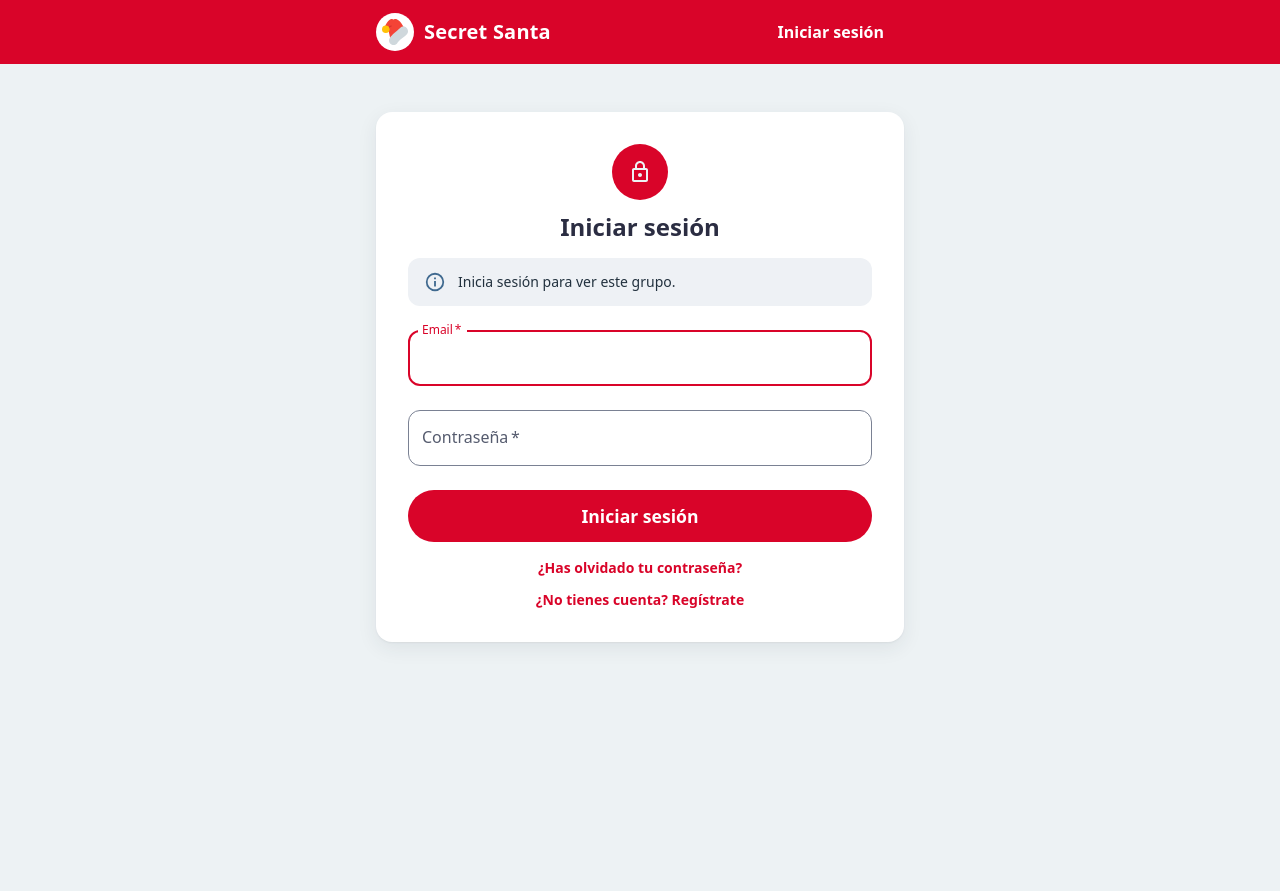
Test case: opens a group from an invite link after logging in
This screenshot has width=1280, height=891.
Expected: the text "Inicia sesión para ver este grupo." is shown, [458,272,676,291]
Type "ana@example.com" into the field labelled "Email *" at x=640, y=358, box [408,330,872,386]
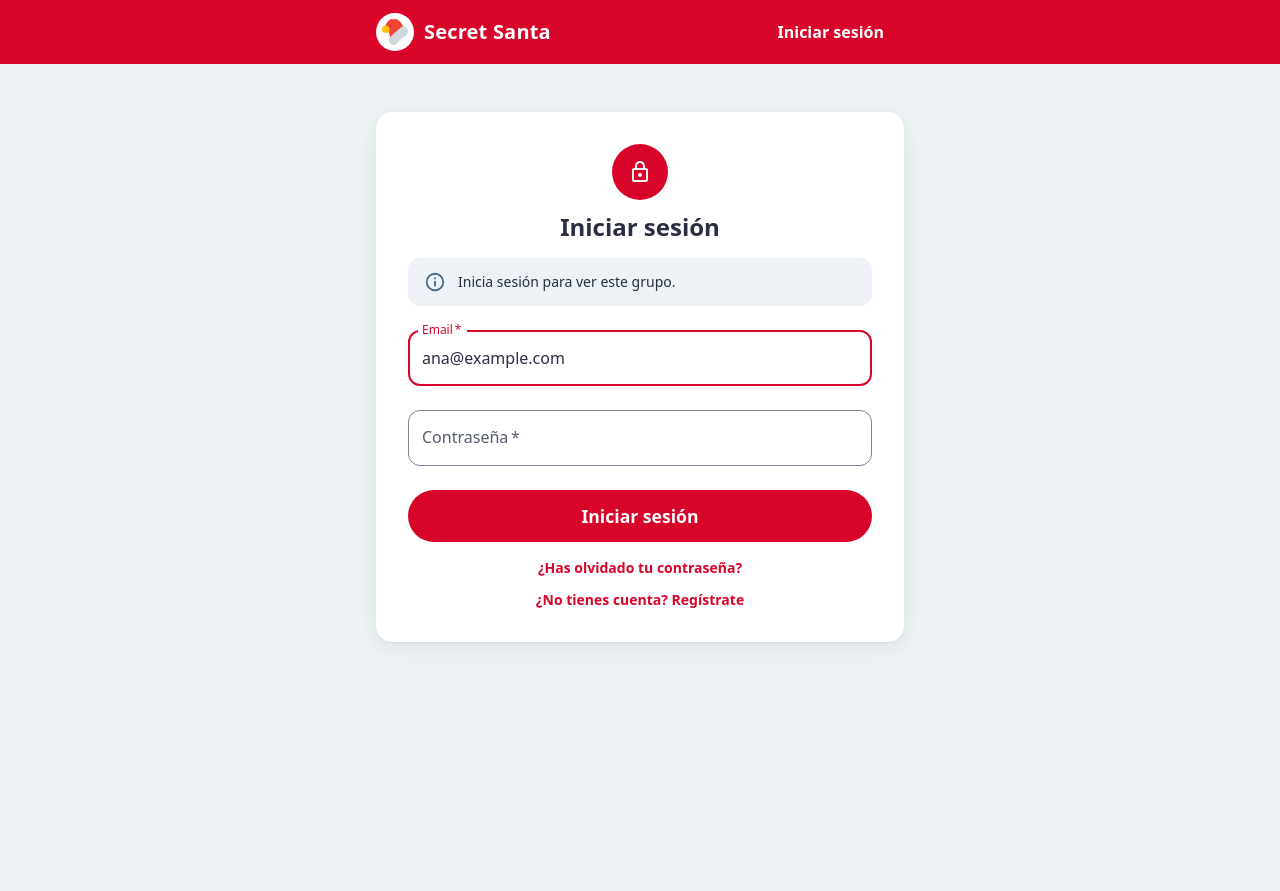
Type "secreto123" into the password field labelled "Contraseña *" at x=640, y=438, box [408,410,872,466]
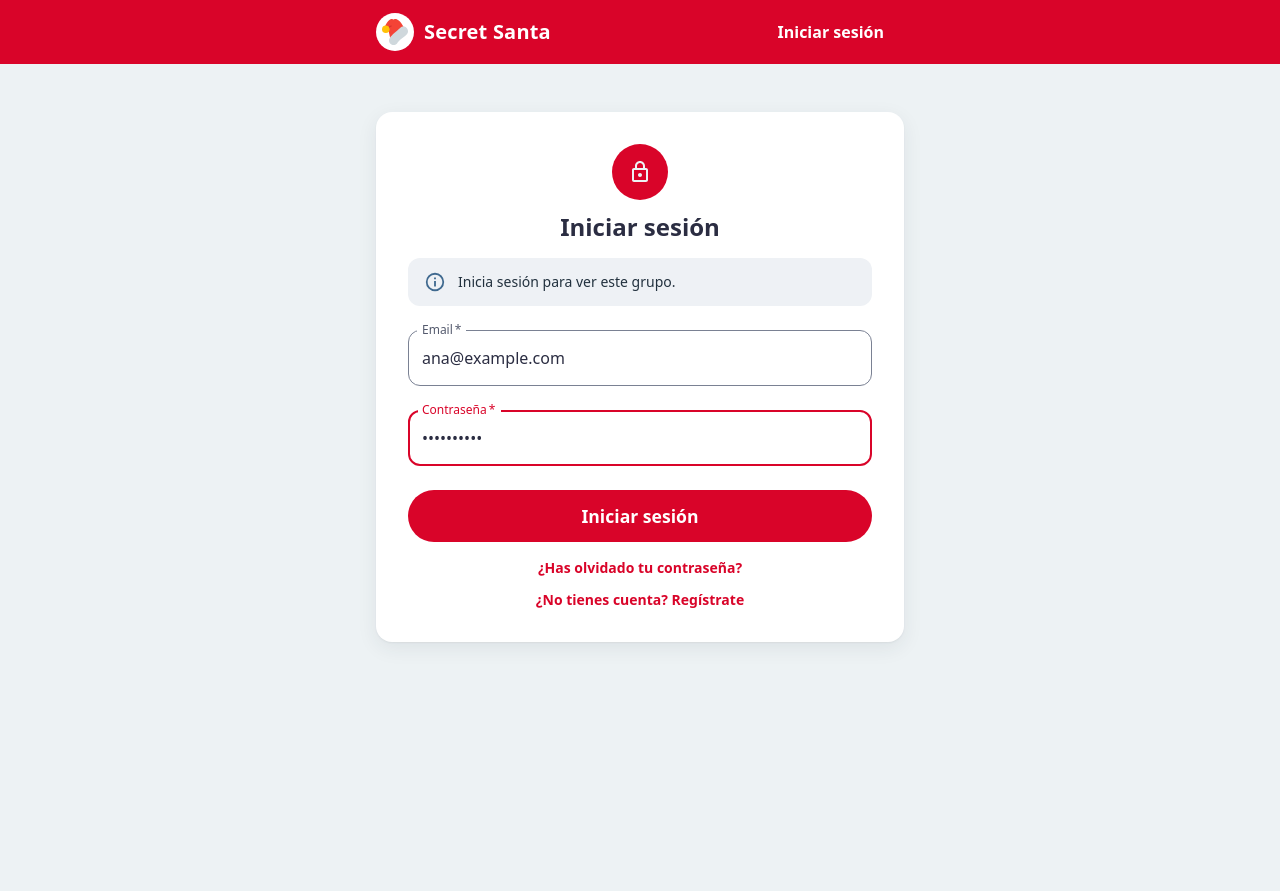
Click the button "Iniciar sesión" at x=640, y=516, box [408,490,872,542]
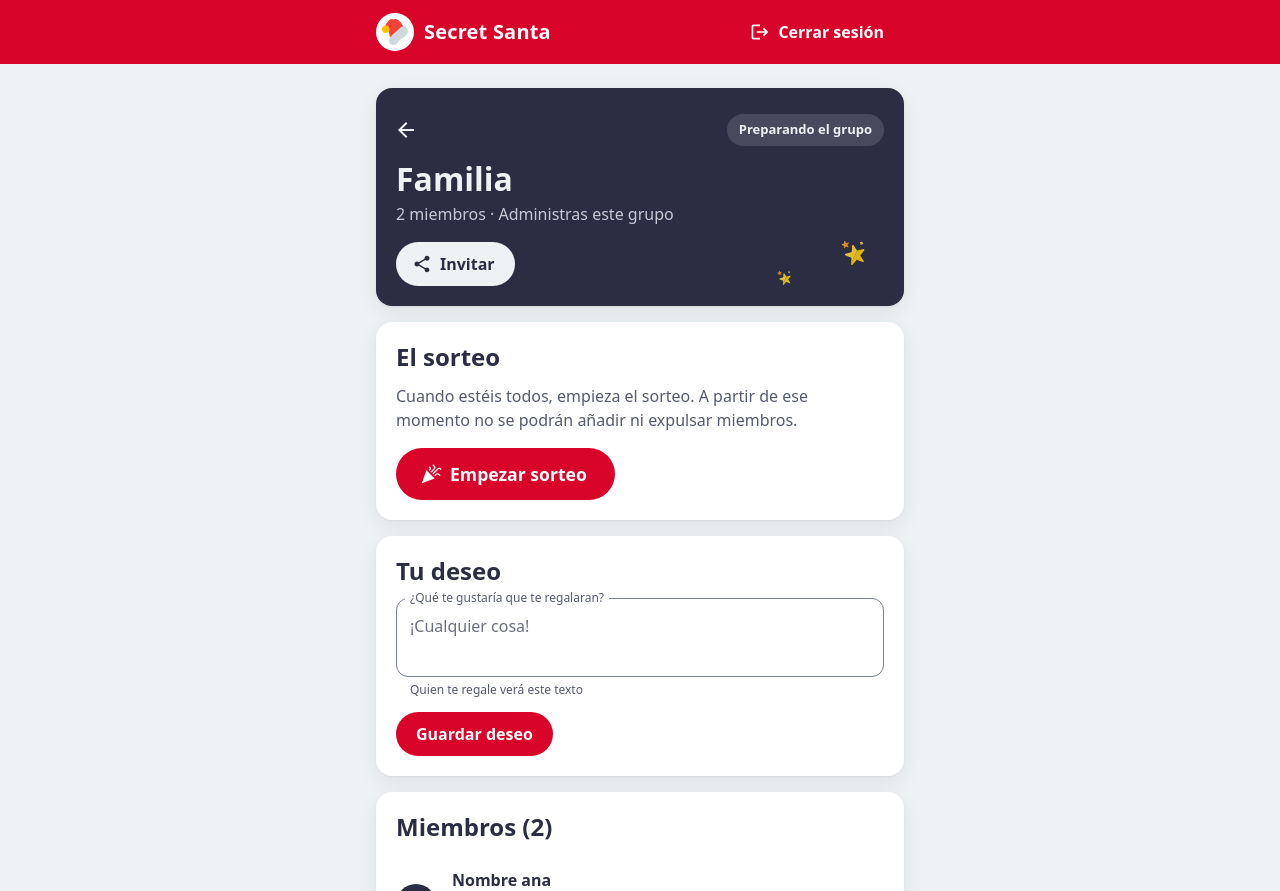
Result: the heading "Familia" is shown at [396,157,513,200]
